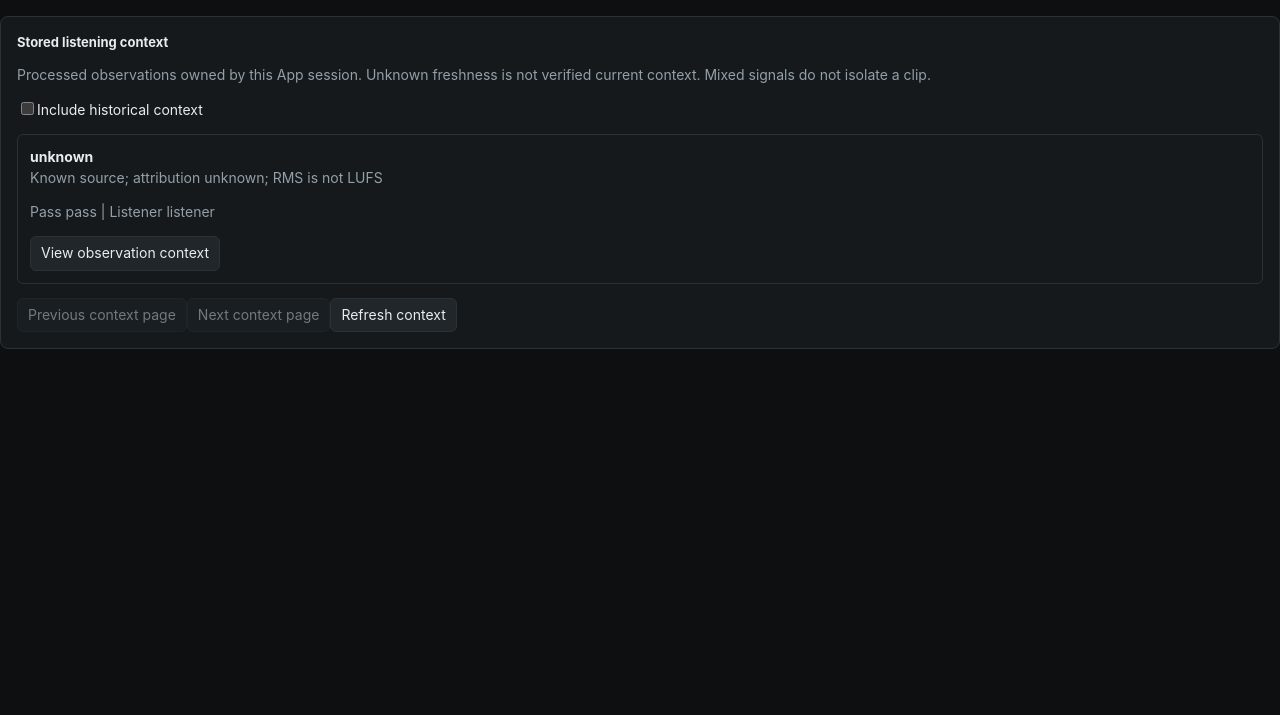
stored listening context presentation › shows v2 approximate descriptive quality at actual 44100 Hz and 64 observed samples
Click the button "View observation context": (125, 253) [30,236,220,271]
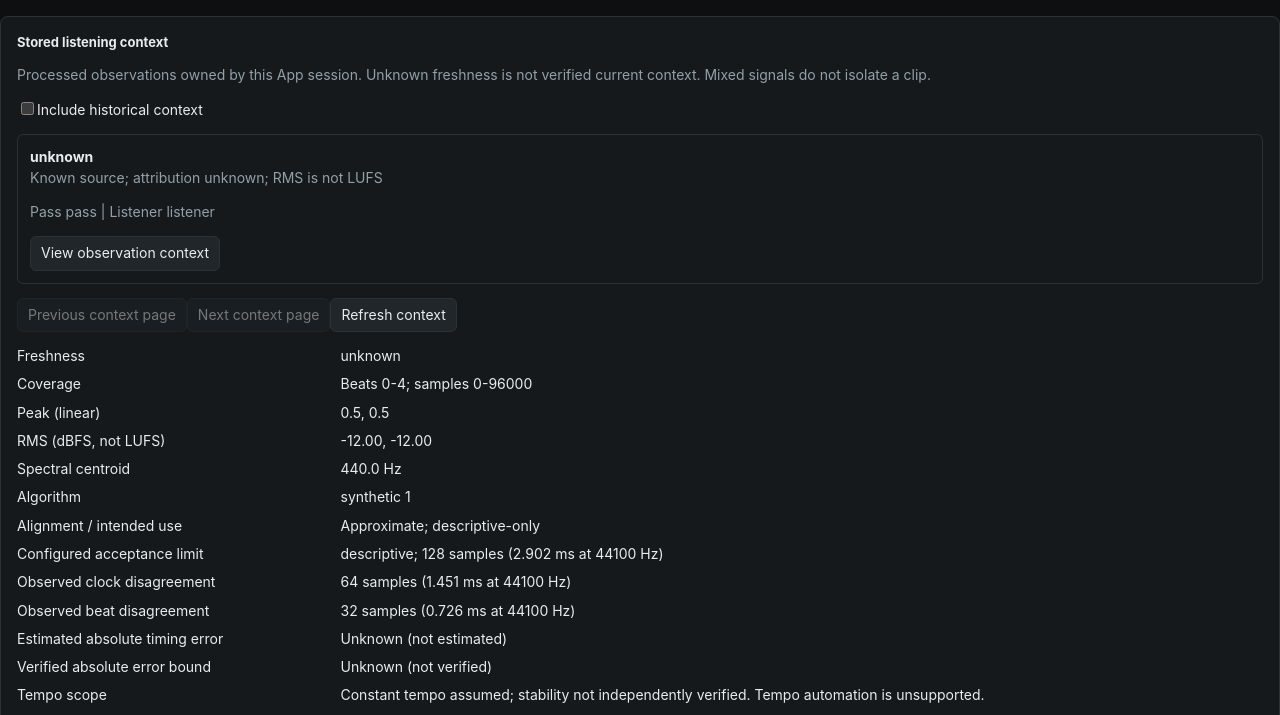
Expected: the text "Approximate; descriptive-only" is shown, [340,517,540,534]
Expected: the text "Constant tempo assumed; stability not independently verified" is shown, [340,686,985,704]
Expected: the text "Tempo automation is unsupported" is shown, [340,686,985,704]
